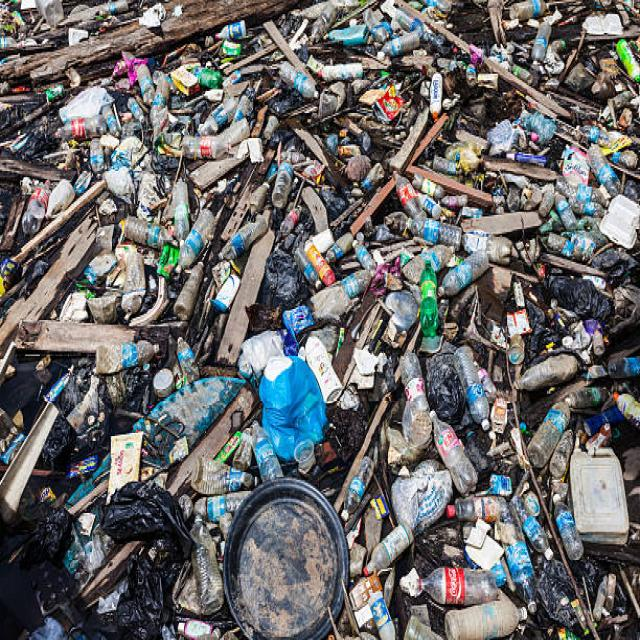garbage: (50, 57, 631, 299), (134, 478, 585, 636), (401, 314, 598, 462), (68, 320, 222, 455), (251, 335, 347, 470)
